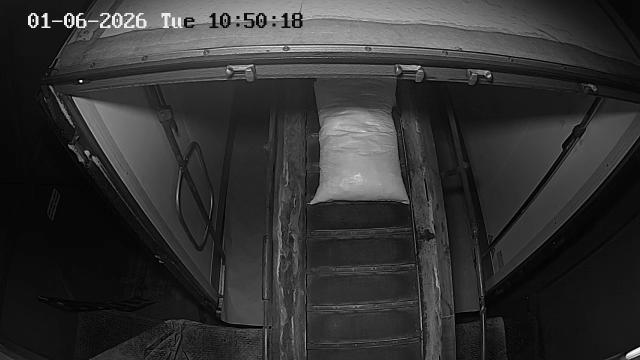bag: (308, 77, 408, 206)
